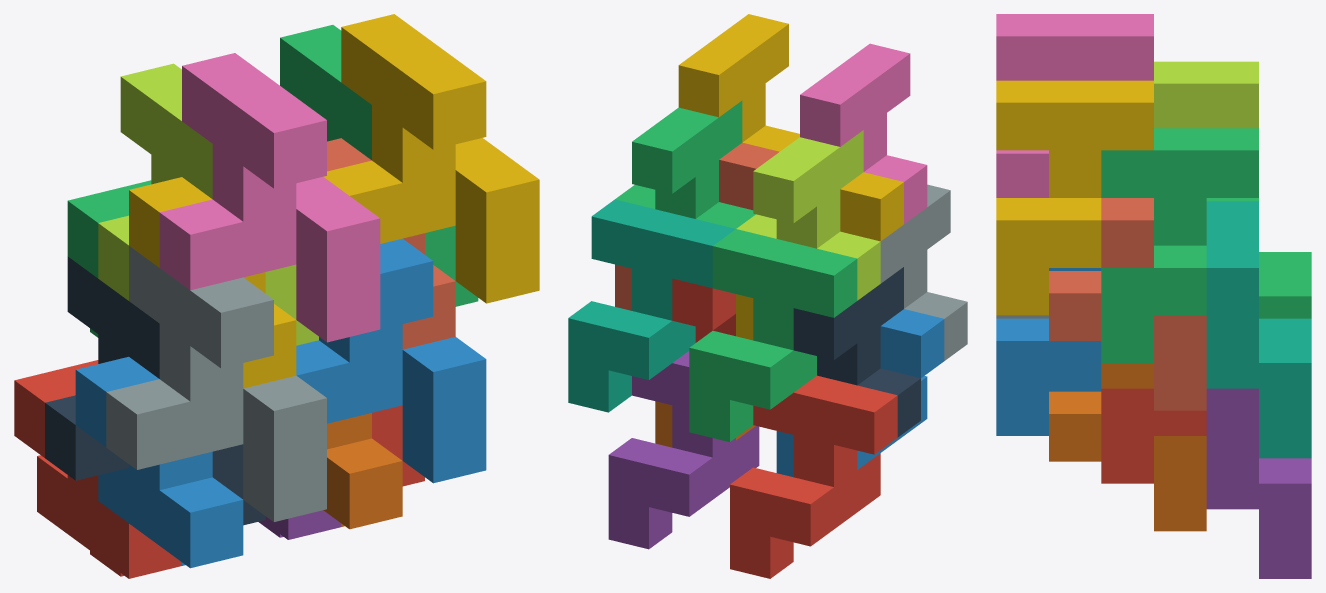
Rendered from tiling.obj.
The picture shows the model from 3 angles, left to right: view 1: azimuth 30°, elevation 25°; view 2: azimuth 150°, elevation 25°; view 3: azimuth 270°, elevation 25°; orthographic projection. The views are drawn at different scales.
Visible parts, largest first — view 1: copy_2_domain_4, copy_2_domain_8, copy_2_domain_2, copy_2_domain_6, copy_1_domain_2, copy_2_domain_3, copy_2_domain_1, copy_1_domain_1, copy_2_domain_7, copy_1_domain_6, copy_1_domain_4, copy_1_domain_8 (+3 smaller); view 2: copy_1_domain_1, copy_1_domain_3, copy_1_domain_7, copy_1_domain_5, copy_2_domain_3, copy_2_domain_4, copy_2_domain_7, copy_2_domain_8, copy_2_domain_1, copy_2_domain_2, copy_1_domain_2, copy_1_domain_4 (+3 smaller); view 3: copy_2_domain_8, copy_2_domain_7, copy_1_domain_7, copy_2_domain_4, copy_1_domain_5, copy_1_domain_8, copy_1_domain_6, copy_2_domain_6, copy_2_domain_3, copy_2_domain_5, copy_1_domain_3.
Part boxes in pixels (<box>): copy_2_domain_4: <box>159,53,380,342</box>; copy_2_domain_8: <box>323,14,539,303</box>; copy_2_domain_2: <box>106,246,326,521</box>; copy_2_domain_6: <box>296,238,486,483</box>; copy_1_domain_2: <box>75,356,243,568</box>; copy_2_domain_3: <box>98,63,318,345</box>; copy_2_domain_1: <box>45,256,265,525</box>; copy_1_domain_1: <box>14,360,181,578</box>; copy_2_domain_7: <box>280,25,478,306</box>; copy_1_domain_6: <box>323,413,402,529</box>; copy_1_domain_4: <box>129,177,296,388</box>; copy_1_domain_8: <box>327,138,455,349</box>; copy_1_domain_1: <box>730,375,897,578</box>; copy_1_domain_3: <box>689,229,857,441</box>; copy_1_domain_7: <box>568,199,735,412</box>; copy_1_domain_5: <box>608,351,759,549</box>; copy_2_domain_3: <box>736,130,880,300</box>; copy_2_domain_4: <box>800,43,927,223</box>; copy_2_domain_7: <box>615,100,755,228</box>; copy_2_domain_8: <box>678,14,799,151</box>; copy_2_domain_1: <box>793,267,920,437</box>; copy_2_domain_2: <box>880,184,967,360</box>; copy_1_domain_2: <box>776,309,944,477</box>; copy_1_domain_4: <box>736,172,903,340</box>; copy_2_domain_8: <box>996,80,1153,315</box>; copy_2_domain_7: <box>1101,128,1258,362</box>; copy_1_domain_7: <box>1206,201,1311,458</box>; copy_2_domain_4: <box>996,14,1153,197</box>; copy_1_domain_5: <box>1206,388,1311,578</box>; copy_1_domain_8: <box>1049,198,1206,410</box>; copy_1_domain_6: <box>1049,363,1206,531</box>; copy_2_domain_6: <box>996,268,1101,435</box>; copy_2_domain_3: <box>1154,61,1258,128</box>; copy_2_domain_5: <box>1101,388,1206,483</box>; copy_1_domain_3: <box>1206,198,1311,318</box>.
Size of the model in its own units: 7 by 10 by 6.
